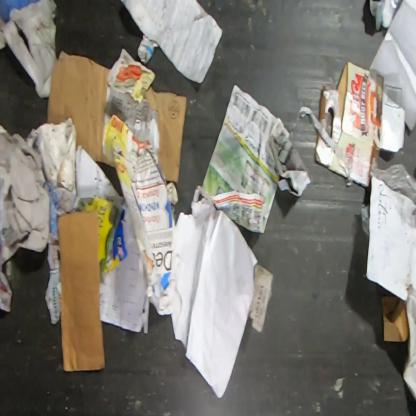cardboard: (45, 50, 187, 186), (319, 60, 407, 192), (56, 207, 106, 373), (315, 131, 348, 180), (382, 288, 410, 342)
soft_plastic: (369, 162, 415, 207), (361, 204, 370, 240)
